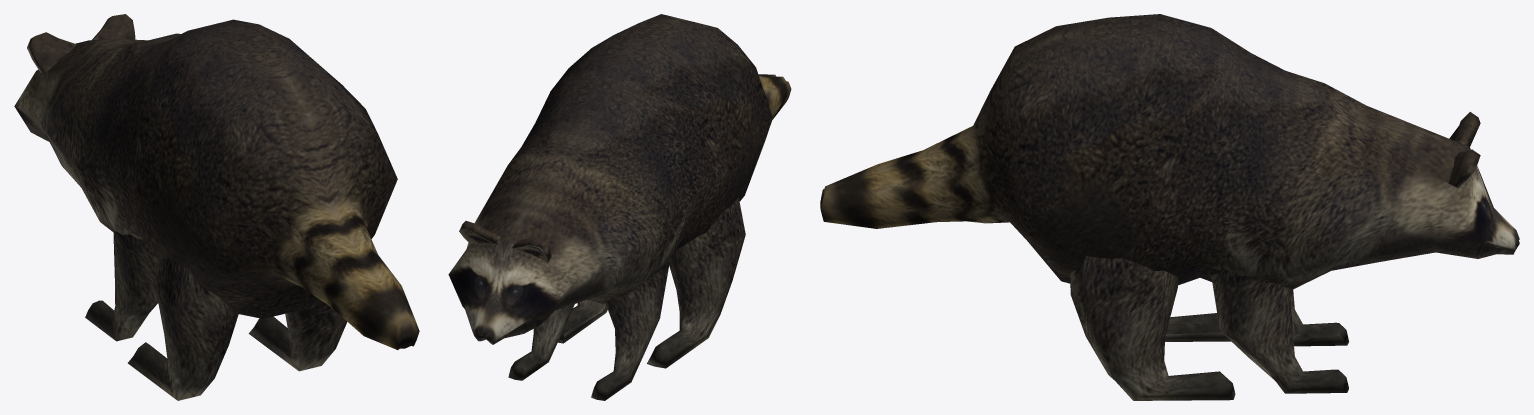
The model's file is THERACCOONEXPORT.fbx.
3 renders of one model, left to right at view 1: azimuth 30°, elevation 25°; view 2: azimuth 150°, elevation 25°; view 3: azimuth 270°, elevation 25°, orthographic. The views are drawn at different scales.
Parts seen in each view (by area): view 1: pCube5; view 2: pCube5; view 3: pCube5.
Boxes of the visible parts, x1,y1,x2,y2 form: pCube5: (14,14,419,400); pCube5: (448,14,791,400); pCube5: (820,14,1519,400).
Bounding box in the file's own units: 16.86 × 26.4 × 49.08.
